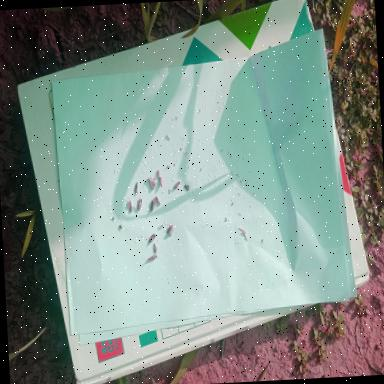pbw: (149, 198, 156, 214), (147, 232, 157, 243), (166, 224, 174, 236), (126, 197, 132, 213), (146, 254, 158, 262), (155, 195, 162, 206), (137, 197, 142, 212), (173, 182, 180, 190), (238, 227, 246, 234), (153, 243, 157, 254), (160, 177, 164, 187), (157, 170, 160, 178)
